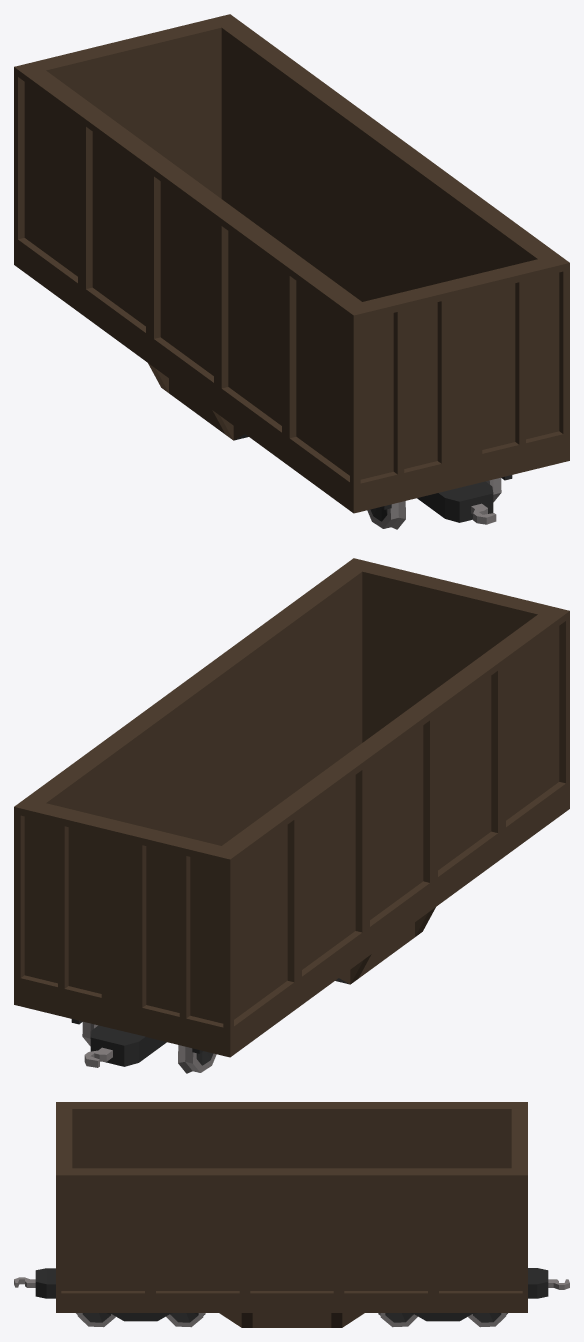
The model's file is train-wagon-hopper.glb.
3 views of the same model, one above another, from view 1: azimuth 30°, elevation 25°; view 2: azimuth 150°, elevation 25°; view 3: azimuth 270°, elevation 25° (orthographic). The views are drawn at different scales.
Parts seen in each view (by area): view 1: train-wagon-hopper-base, train-wagon-hopper-wheel_F1; view 2: train-wagon-hopper-base, train-wagon-hopper-wheel_B2; view 3: train-wagon-hopper-base, train-wagon-hopper-wheel-frame_F, train-wagon-hopper-wheel-frame_B, train-wagon-hopper-wheel_F2, train-wagon-hopper-wheel_B1, train-wagon-hopper-wheel_F1, train-wagon-hopper-wheel_B2.
Boxes of the visible parts, x1,y1,x2,y2 form: train-wagon-hopper-base: (14,14,569,524); train-wagon-hopper-wheel_F1: (367,477,501,529); train-wagon-hopper-base: (14,558,569,1067); train-wagon-hopper-wheel_B2: (82,1021,216,1073); train-wagon-hopper-base: (14,1102,569,1327); train-wagon-hopper-wheel-frame_F: (110,1313,171,1321); train-wagon-hopper-wheel-frame_B: (412,1313,473,1321); train-wagon-hopper-wheel_F2: (166,1313,205,1327); train-wagon-hopper-wheel_B1: (378,1313,417,1327); train-wagon-hopper-wheel_F1: (76,1313,115,1327); train-wagon-hopper-wheel_B2: (468,1313,507,1327).
Bounding box in the file's own units: 3.2 × 3.5 × 10.26.
1 material, 1 textured.
